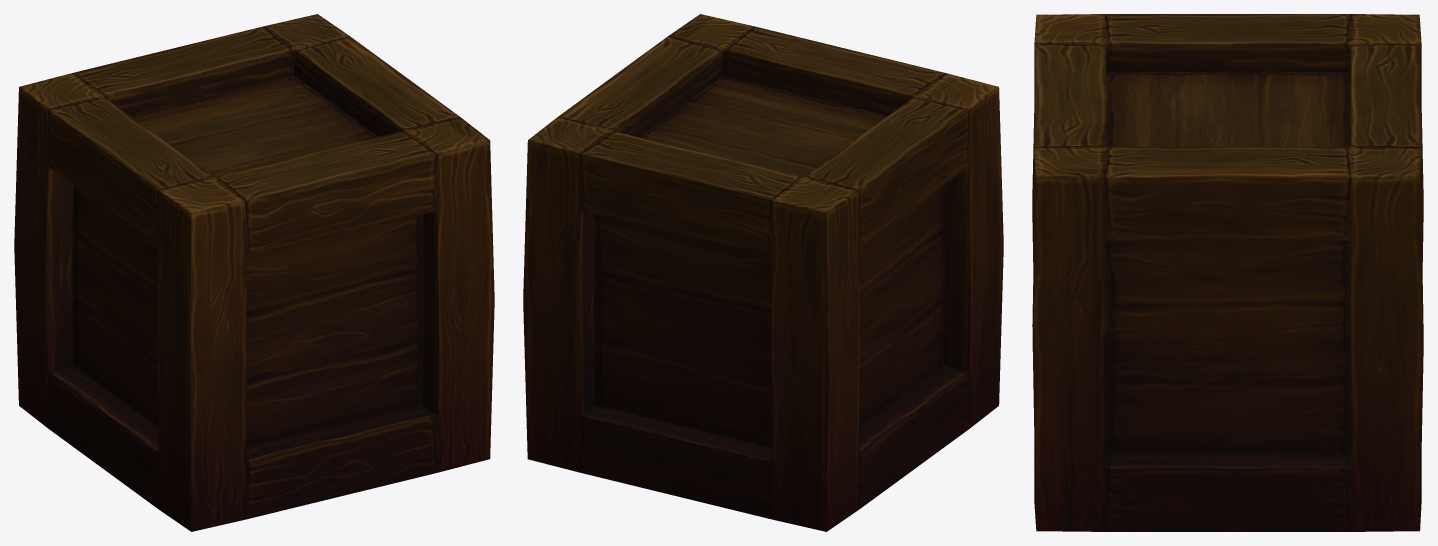
File: crate.glb
3 views of the same model, side by side, from view 1: azimuth 30°, elevation 25°; view 2: azimuth 150°, elevation 25°; view 3: azimuth 270°, elevation 25° (orthographic). The views are drawn at different scales.
Visible parts, largest first — view 1: defaultMaterial; view 2: defaultMaterial; view 3: defaultMaterial.
Boxes of the visible parts, x1,y1,x2,y2 form: defaultMaterial: (14, 14, 494, 531); defaultMaterial: (523, 14, 1003, 531); defaultMaterial: (1032, 14, 1423, 531).
Size of the model in its own units: 1 by 1 by 1.
1 material, 1 textured.
